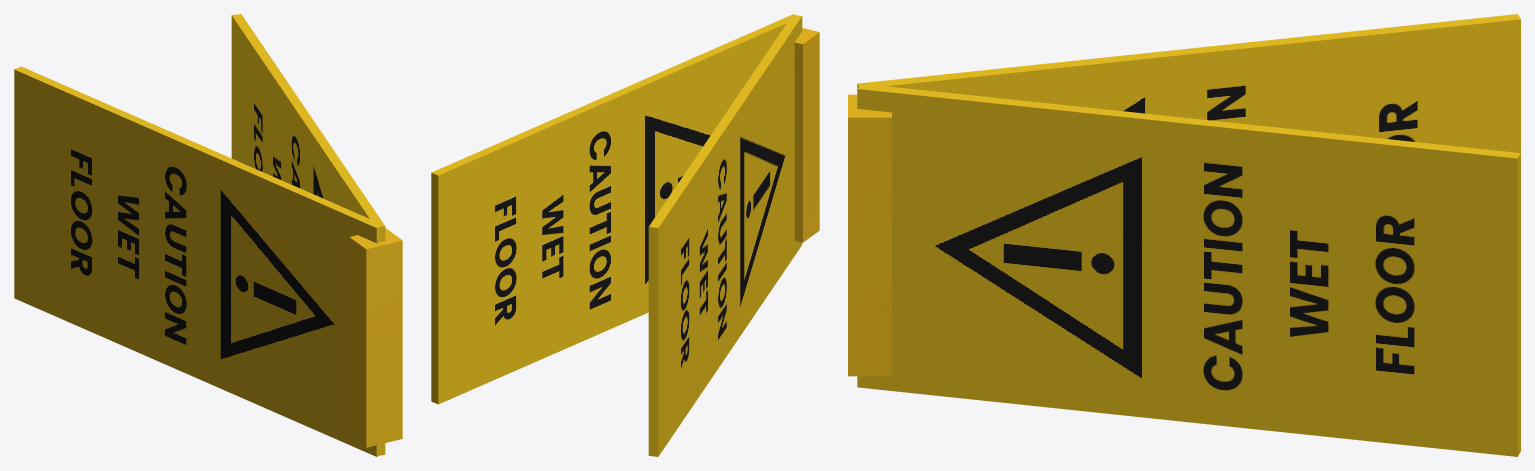
Rendered from wet_floor_sign.gltf.
The picture shows the model from 3 angles, left to right: view 1: azimuth 30°, elevation 25°; view 2: azimuth 150°, elevation 25°; view 3: azimuth 270°, elevation 25°; orthographic projection. The views are drawn at different scales.
Visible parts, largest first — view 1: wet_floor_sign; view 2: wet_floor_sign; view 3: wet_floor_sign.
Boxes of the visible parts, <box> form: wet_floor_sign: <box>14,14,402,456</box>; wet_floor_sign: <box>431,14,819,456</box>; wet_floor_sign: <box>848,14,1520,456</box>.
Size of the model in its own units: 0.3116 by 0.3 by 0.613.
Materials: 2 (2 with a texture image).
